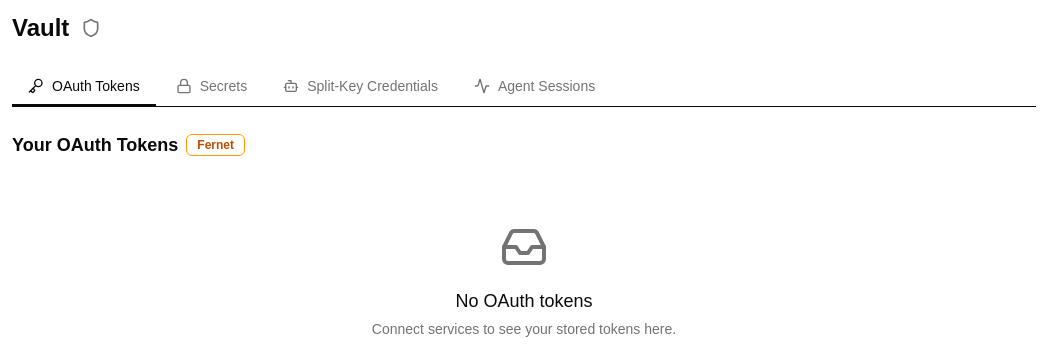
Test: Vault tabs — Phase 3 › Agent Sessions tab shows session data
Step 1. Click the button "Agent Sessions" → {"x": 535, "y": 87}, box top-left (458, 68), bottom-right (611, 106)
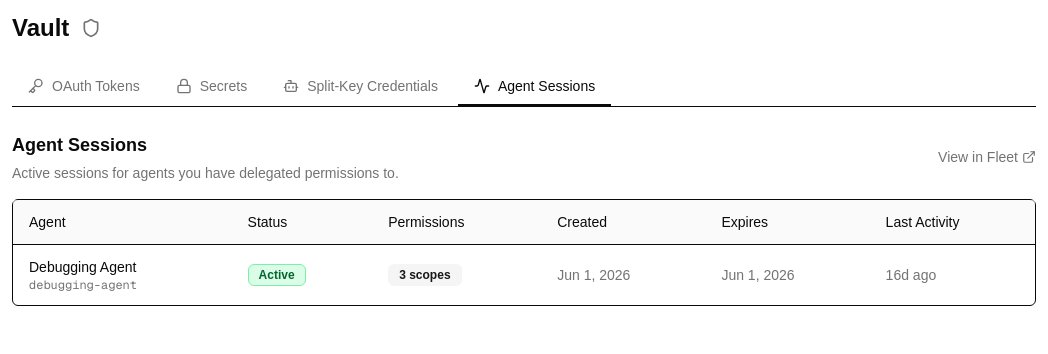
Result: the text "Debugging Agent" is shown at top-left (29, 259), bottom-right (136, 275)
Result: the text "debugging-agent" is shown at top-left (29, 277), bottom-right (137, 293)
Result: the text "3 scopes" is shown at top-left (388, 264), bottom-right (462, 286)
